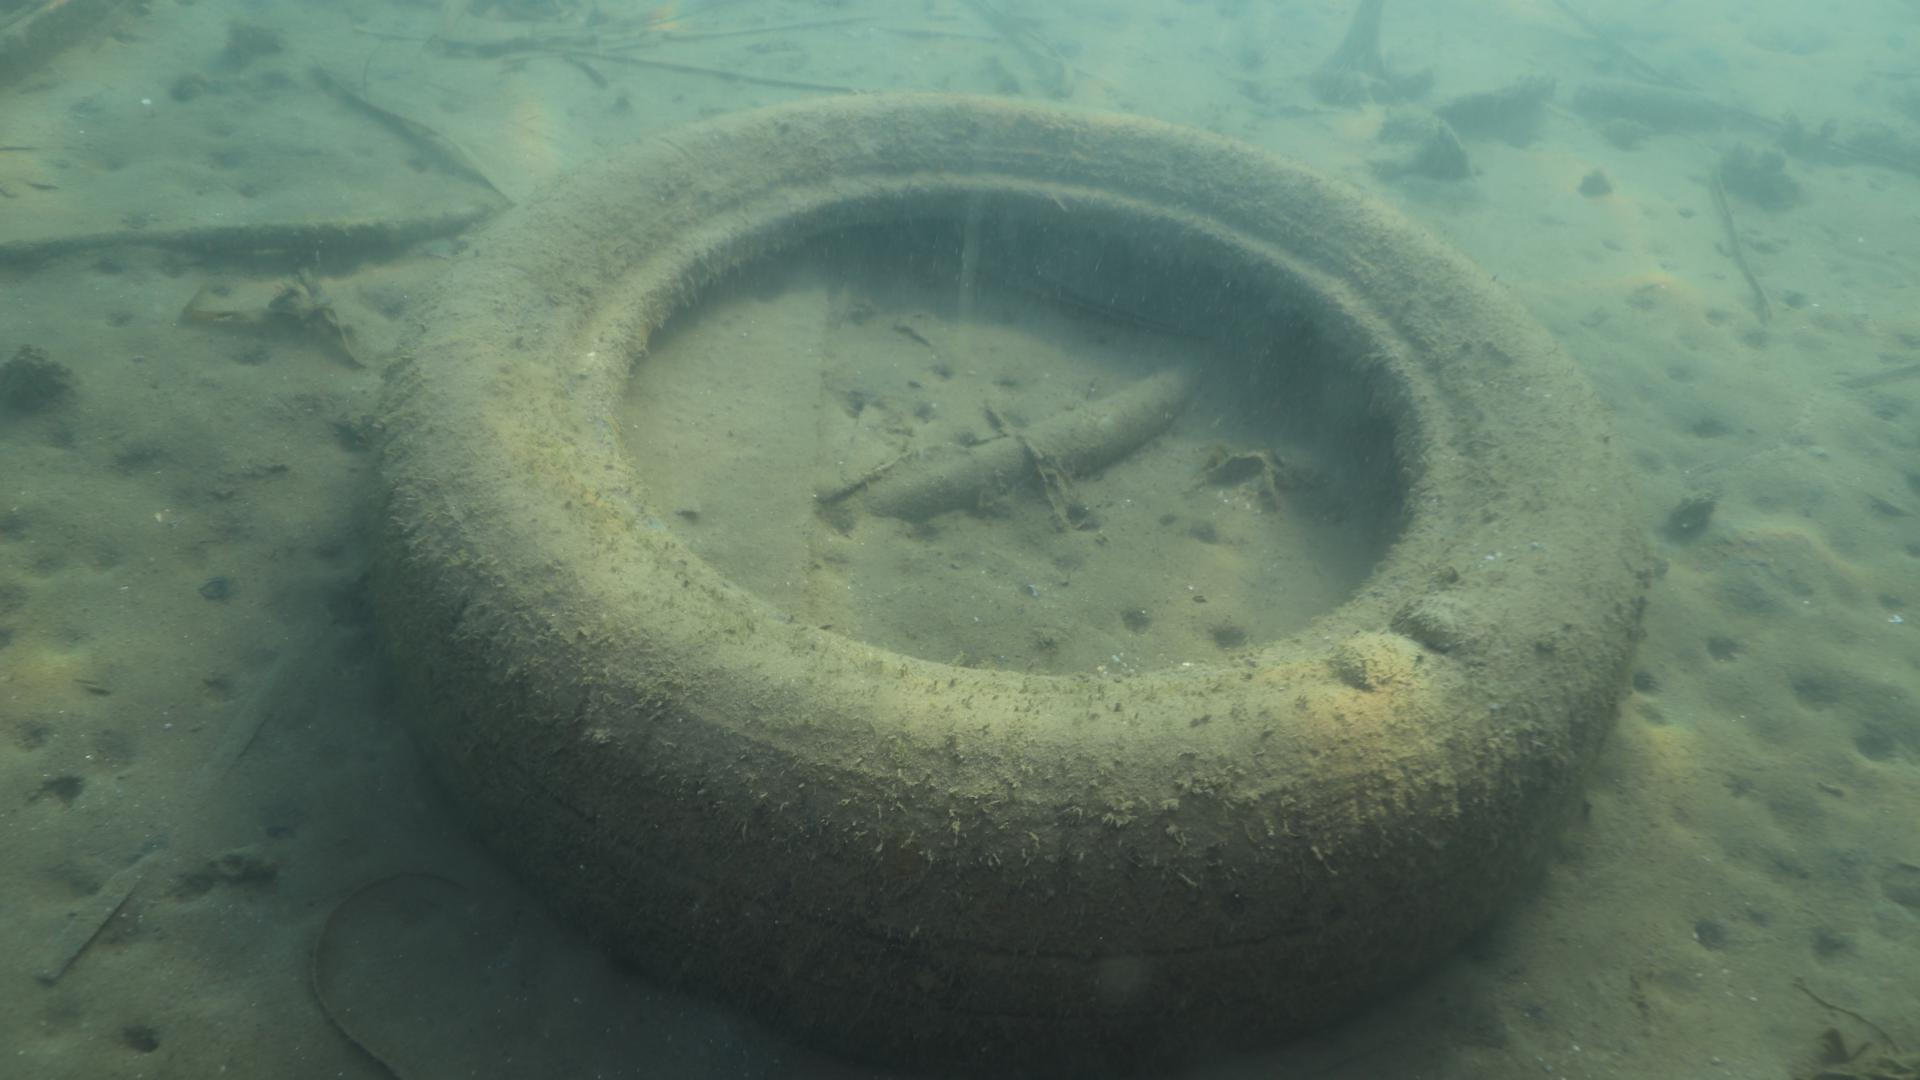tire: (368, 88, 1656, 1073)
